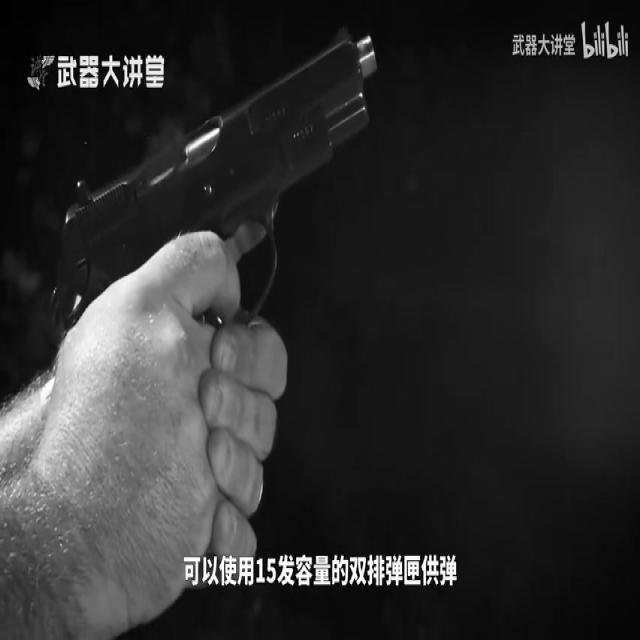Hand-Gun: (58, 21, 381, 432)
